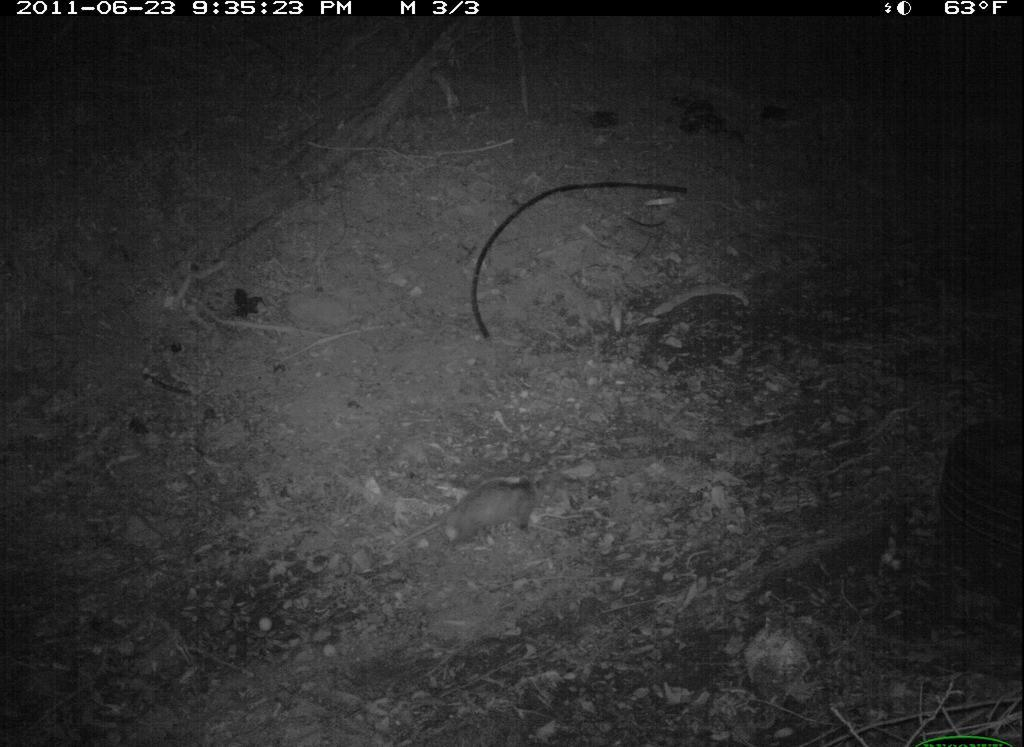opossum: (391, 474, 552, 553)
